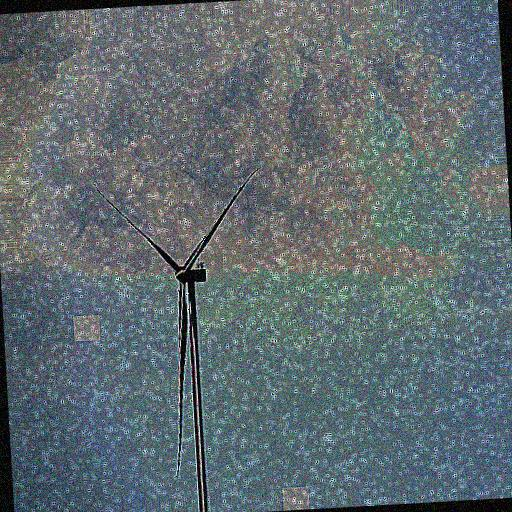wind turbine: (93, 165, 264, 502)
